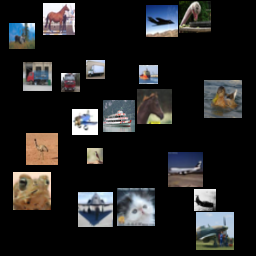airplane: (196, 212, 234, 250), (78, 192, 113, 227), (168, 152, 203, 187), (146, 5, 178, 37), (72, 109, 98, 135), (194, 189, 216, 211)
bird: (204, 80, 242, 118), (179, 1, 211, 33), (26, 133, 58, 165), (87, 148, 103, 164)
cat: (117, 188, 155, 226)
deer: (9, 23, 35, 49)
frog: (13, 172, 51, 210)
ship: (103, 100, 135, 132), (139, 65, 158, 84)
